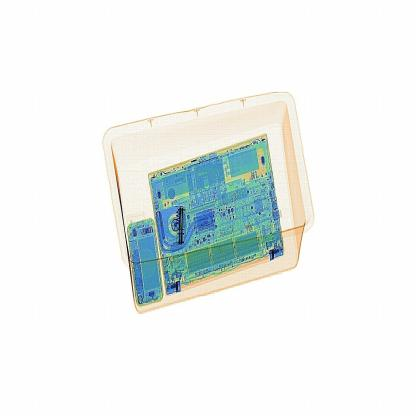scissors: (174, 206, 192, 251)
